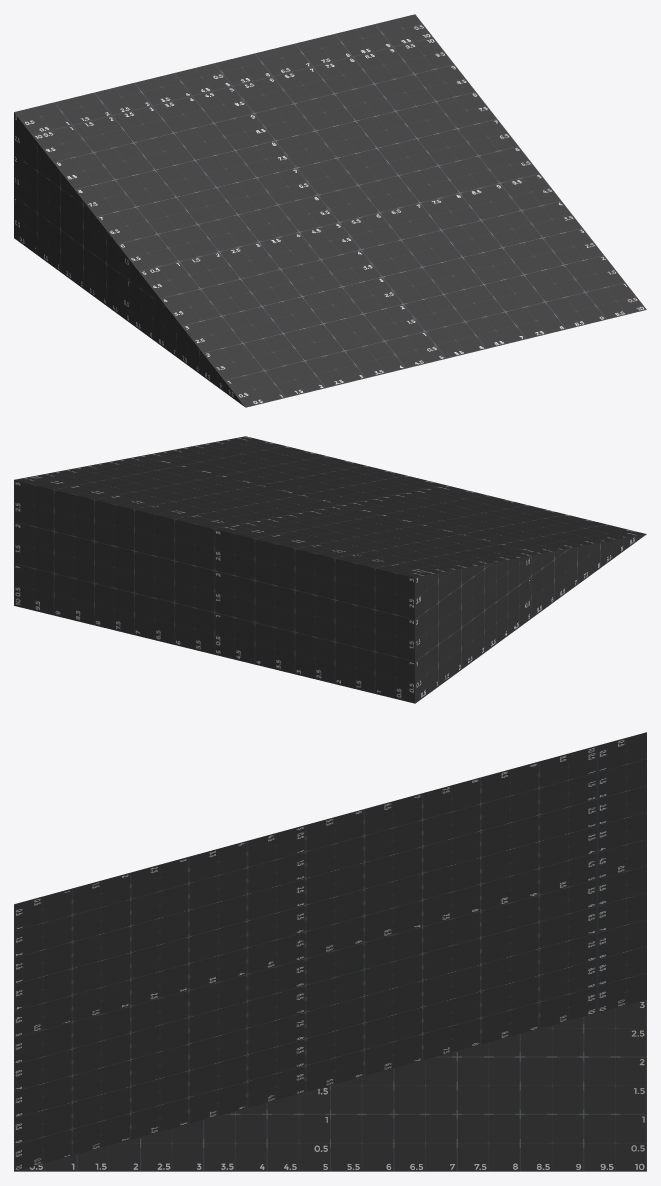
Rendered from WedgeFloor_03.fbx.
3 renders of one model, top to bottom at view 1: azimuth 30°, elevation 25°; view 2: azimuth 150°, elevation 25°; view 3: azimuth 270°, elevation 25°, orthographic. The views are drawn at different scales.
Visible parts, largest first — view 1: WedgeFloor_03; view 2: WedgeFloor_03; view 3: WedgeFloor_03.
Part boxes in pixels (x1,y1,x2,y2): WedgeFloor_03: (14,14,646,407); WedgeFloor_03: (14,436,646,703); WedgeFloor_03: (14,732,646,1171).
Size of the model in its own units: 10 by 3 by 10.
